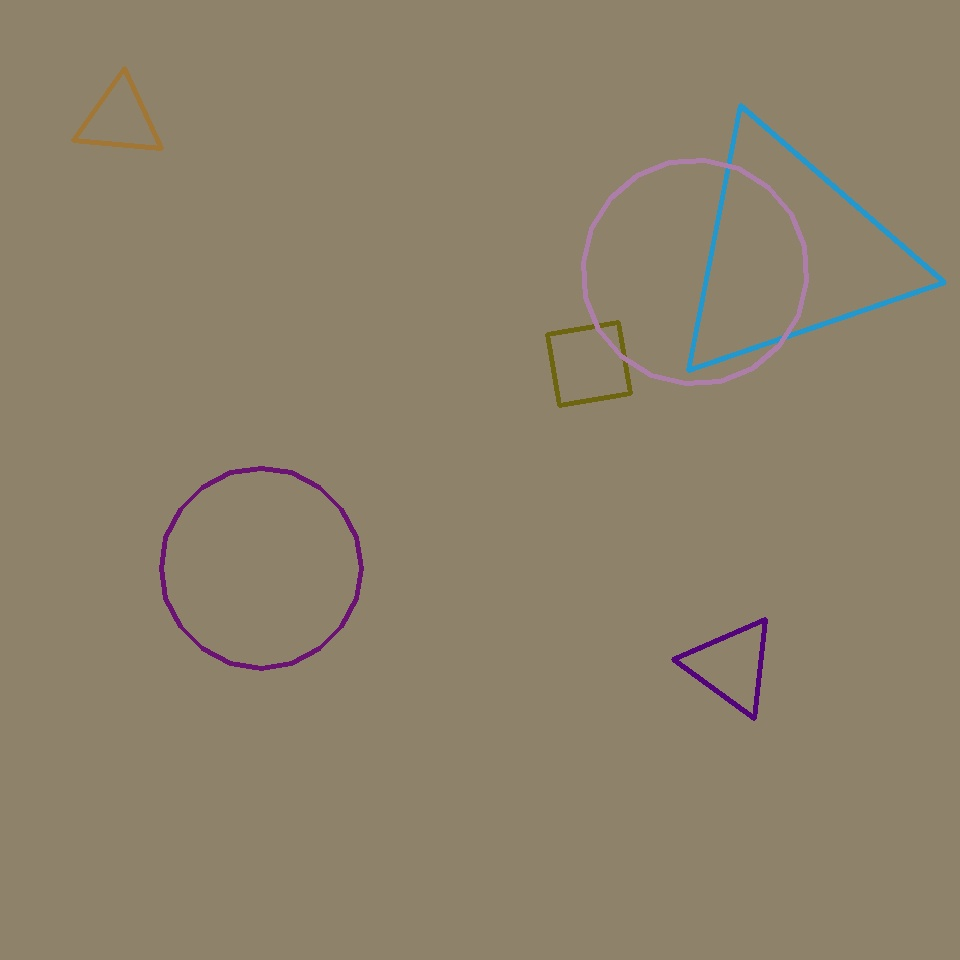circle: (663, 120, 919, 386), (685, 616, 777, 715), (76, 79, 164, 159)
square: (548, 322, 630, 406)
triangle: (584, 160, 806, 384), (161, 468, 361, 668)
